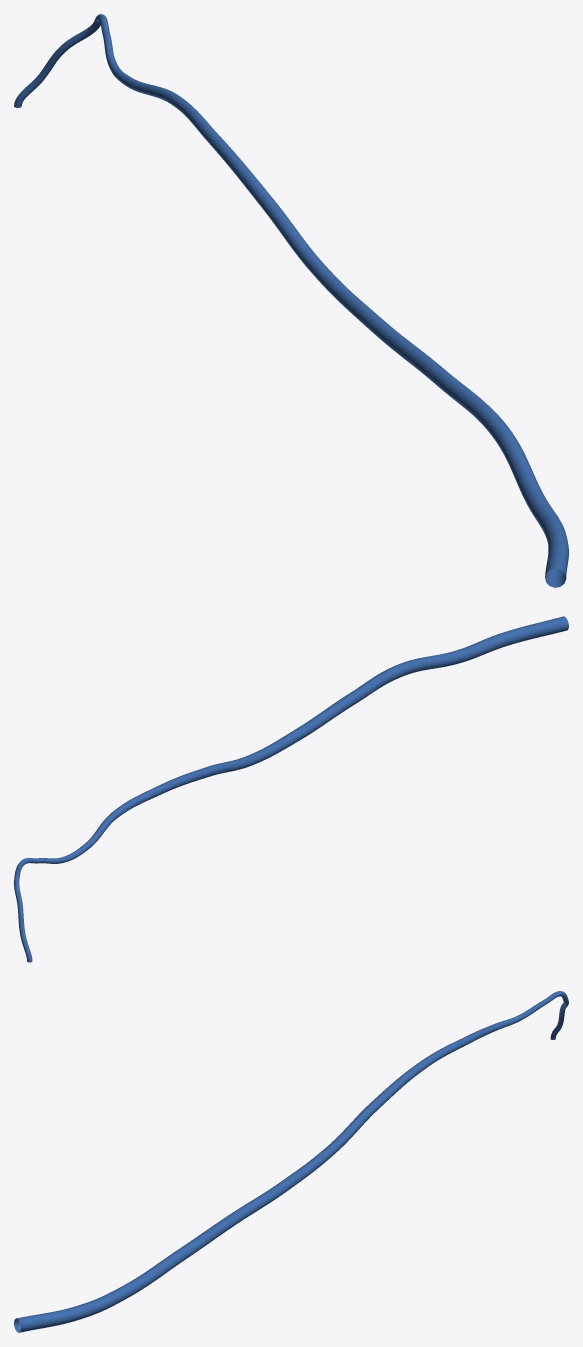
3 renders of one model, top to bottom at view 1: azimuth 30°, elevation 25°; view 2: azimuth 150°, elevation 25°; view 3: azimuth 330°, elevation 25°, orthographic. The views are drawn at different scales.
Visible parts, largest first — view 1: 右侧胫后静脉; view 2: 右侧胫后静脉; view 3: 右侧胫后静脉.
Boxes of the visible parts, bbox=[...] form: 右侧胫后静脉: bbox=[14, 14, 568, 587]; 右侧胫后静脉: bbox=[14, 616, 568, 962]; 右侧胫后静脉: bbox=[14, 991, 568, 1332].
Size of the model in its own units: 0.0781 by 0.0475 by 0.5032.
